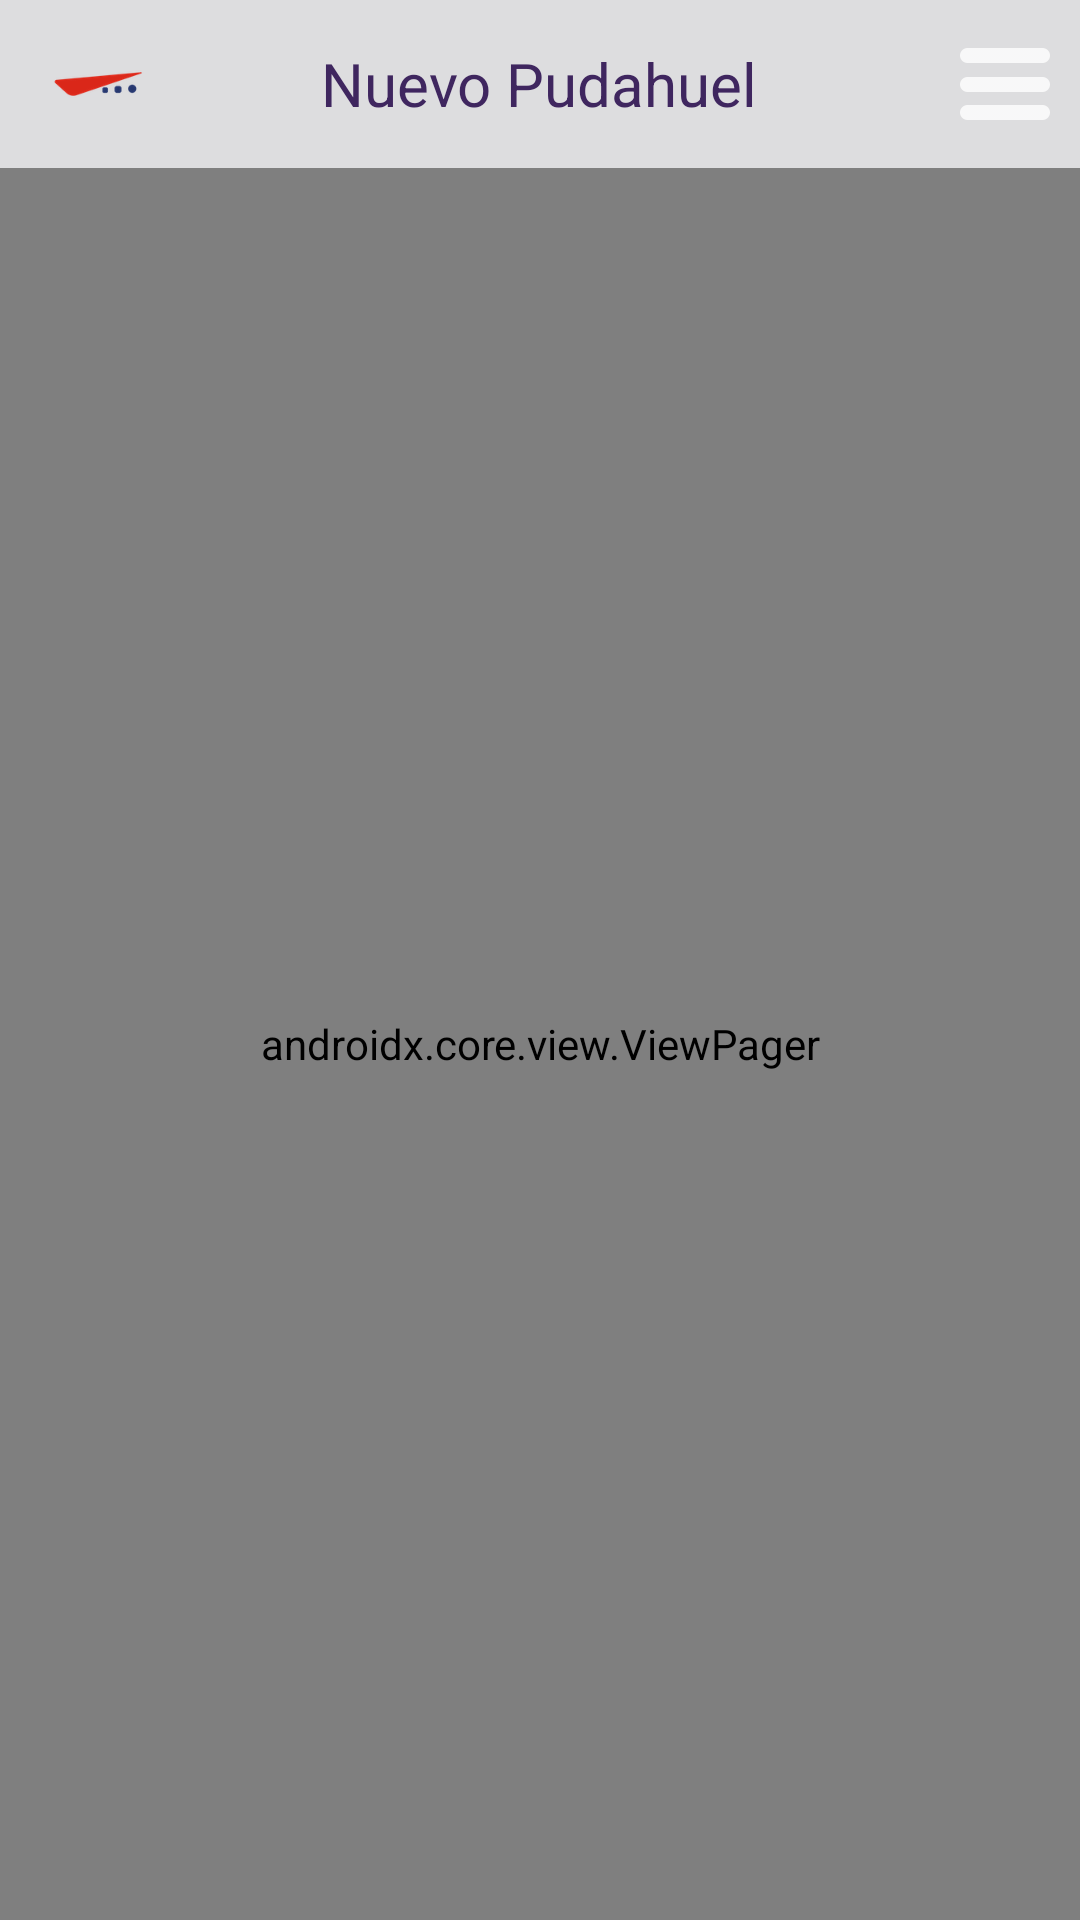

Icon click points for this 1080w x 1920h phone screenshot, format [x,y]:
btnmenu: [1005,84]
